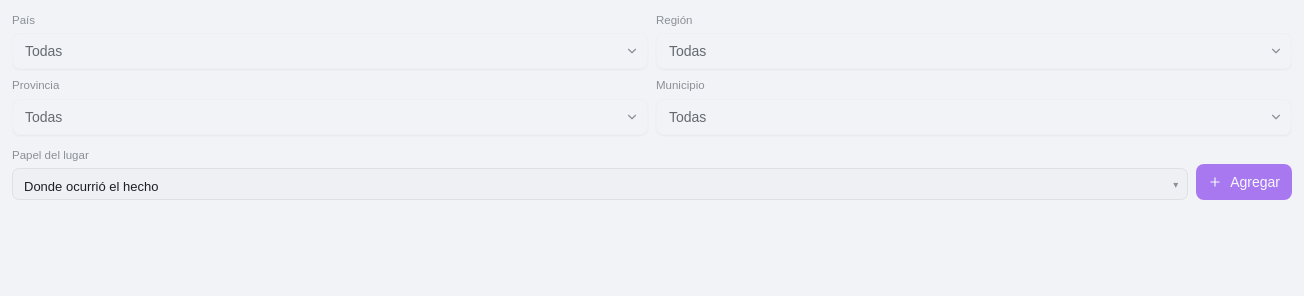
Test case: LocalityPicker › elegir rellena los demás campos › elegir una provincia llena Región y País, y deja Municipio vacío
Check: the dropdown labelled "Municipio" is enabled, box [656, 98, 1292, 134]
Click the dropdown labelled "Provincia" at (330, 116), box [12, 98, 648, 134]
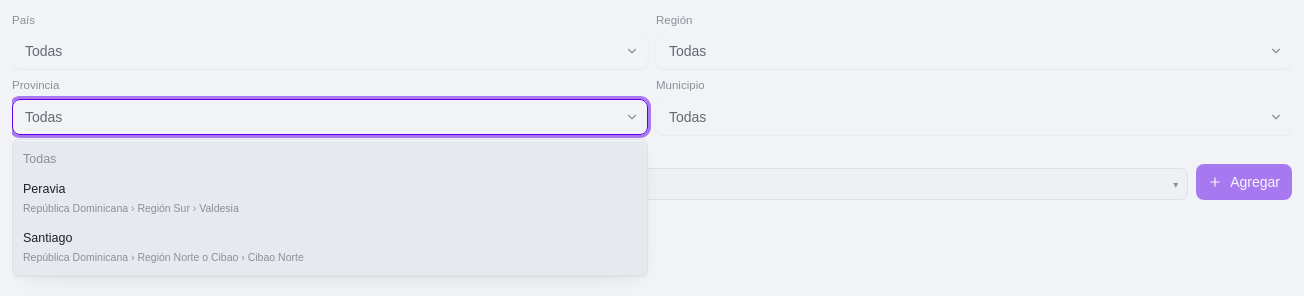
Click the option "Peravia República Dominicana › Región Sur › Valdesia" at (44, 189), box [13, 174, 647, 223]
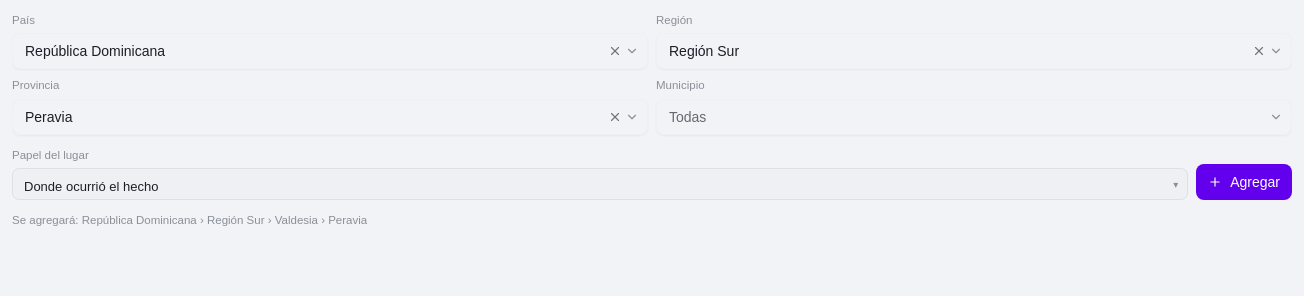
Check: the dropdown labelled "Provincia" holds "Peravia", box [12, 98, 648, 134]
Check: the dropdown labelled "Región" holds "Región Sur", box [656, 33, 1292, 69]
Check: the dropdown labelled "País" holds "República Dominicana", box [12, 33, 648, 69]
